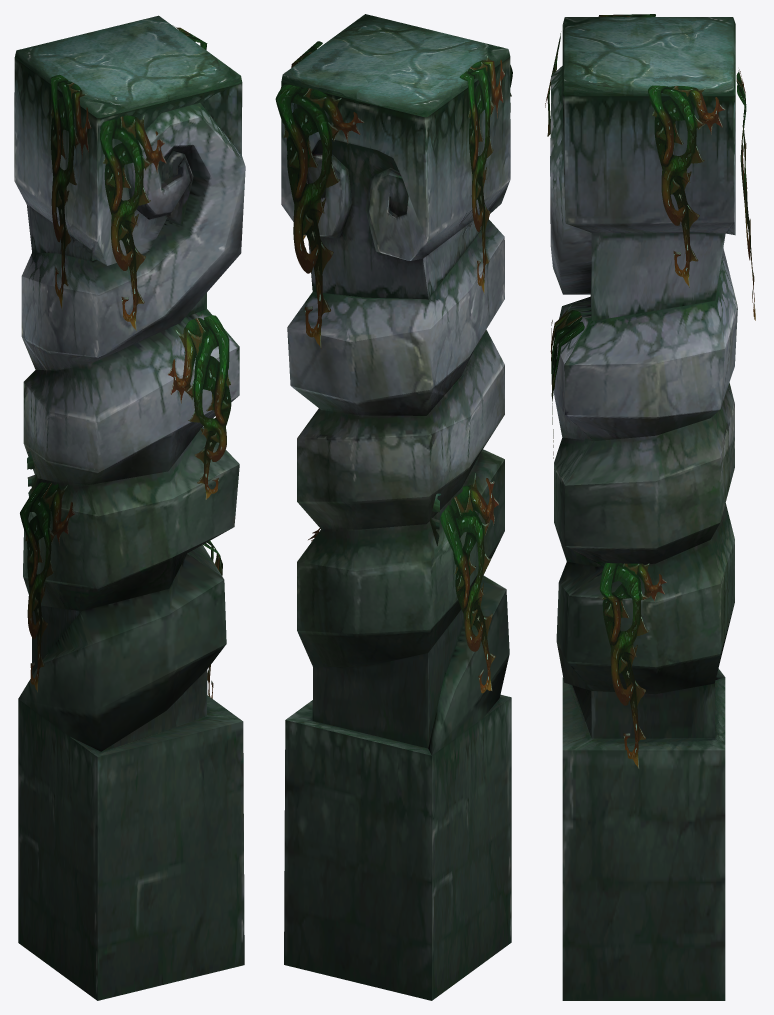
Rendered from sunken_pillar_large.fbx.
3 views of the same model, side by side, from view 1: azimuth 30°, elevation 25°; view 2: azimuth 150°, elevation 25°; view 3: azimuth 270°, elevation 25° (orthographic). The views are drawn at different scales.
Visible parts, largest first — view 1: sunken_pillar_large-0; view 2: sunken_pillar_large-0; view 3: sunken_pillar_large-0.
Part boxes in pixels (left/top/right/bottom): sunken_pillar_large-0: left=14, top=15, right=245, bottom=1000; sunken_pillar_large-0: left=275, top=14, right=512, bottom=1000; sunken_pillar_large-0: left=545, top=14, right=755, bottom=1000.
Size of the model in its own units: 3.5 by 16.66 by 3.57.
